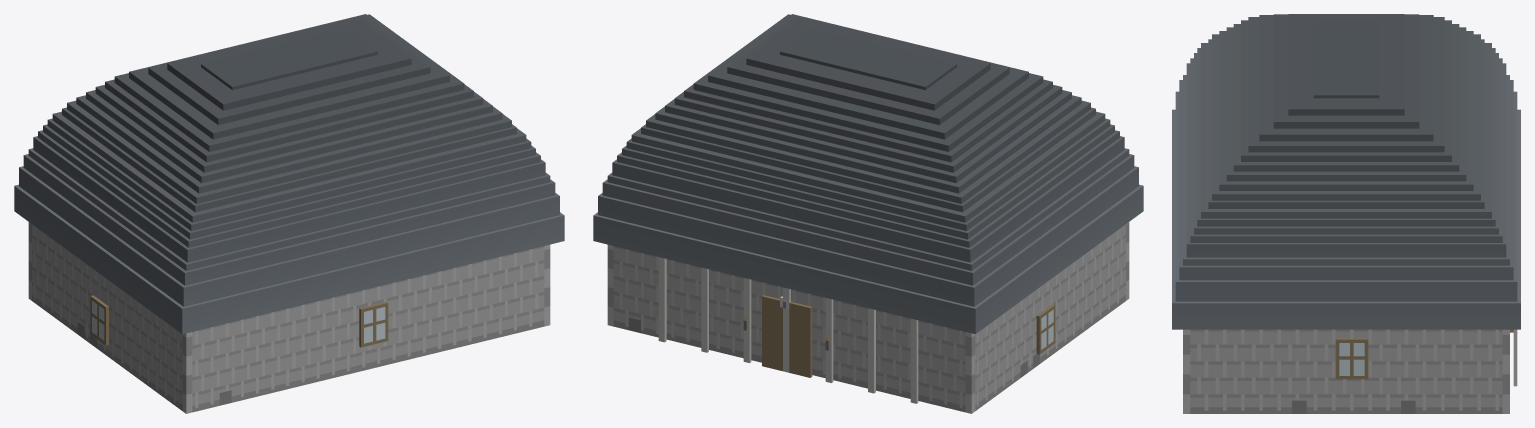
Rendered from gran_archivo_02.glb.
3 views of the same model, side by side, from view 1: azimuth 30°, elevation 25°; view 2: azimuth 150°, elevation 25°; view 3: azimuth 270°, elevation 25° (orthographic). The views are drawn at different scales.
Parts seen in each view (by area): view 1: gran_archivo_02; view 2: gran_archivo_02; view 3: gran_archivo_02.
Part boxes in pixels (x1,y1,x2,y2): gran_archivo_02: [14, 14, 564, 413]; gran_archivo_02: [593, 14, 1143, 413]; gran_archivo_02: [1172, 14, 1520, 413].
Bounding box in the file's own units: 12.6 × 8 × 9.6.
